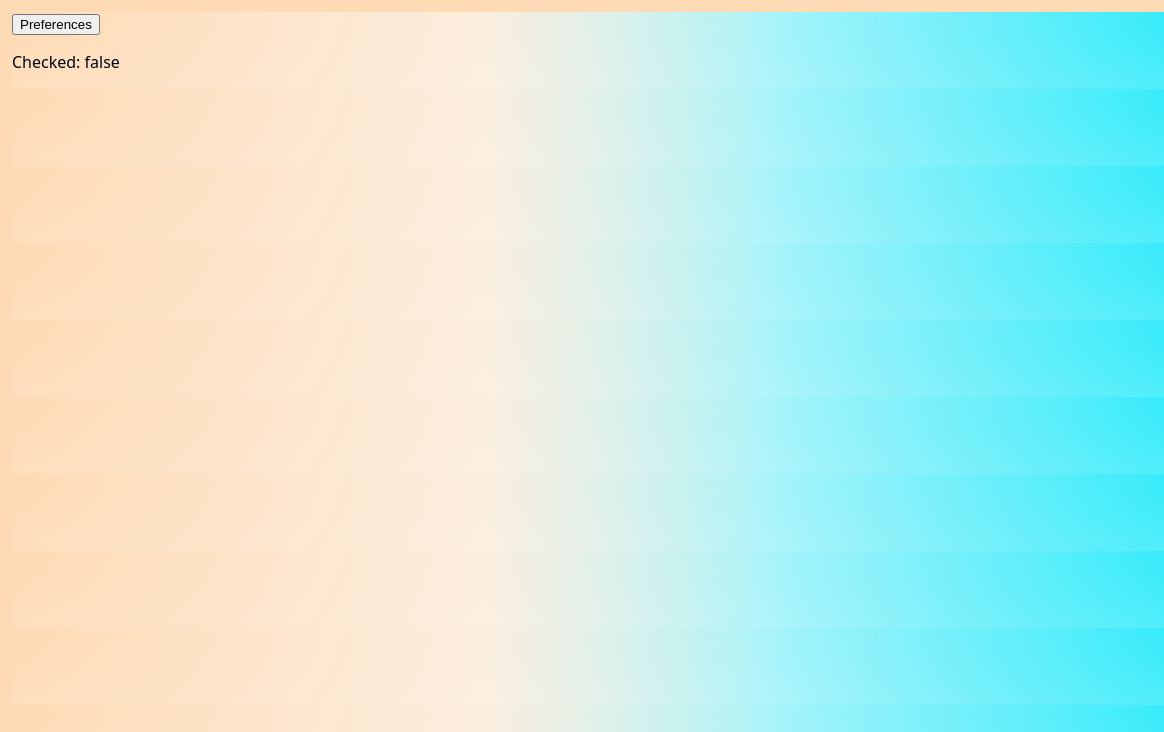
DropdownMenu › updates checkbox item state in menu
Expected: the text "Checked: false" is shown, [12,51,120,73]
Step 1. Click the button "Preferences" → [56, 24], box [12,14,100,35]
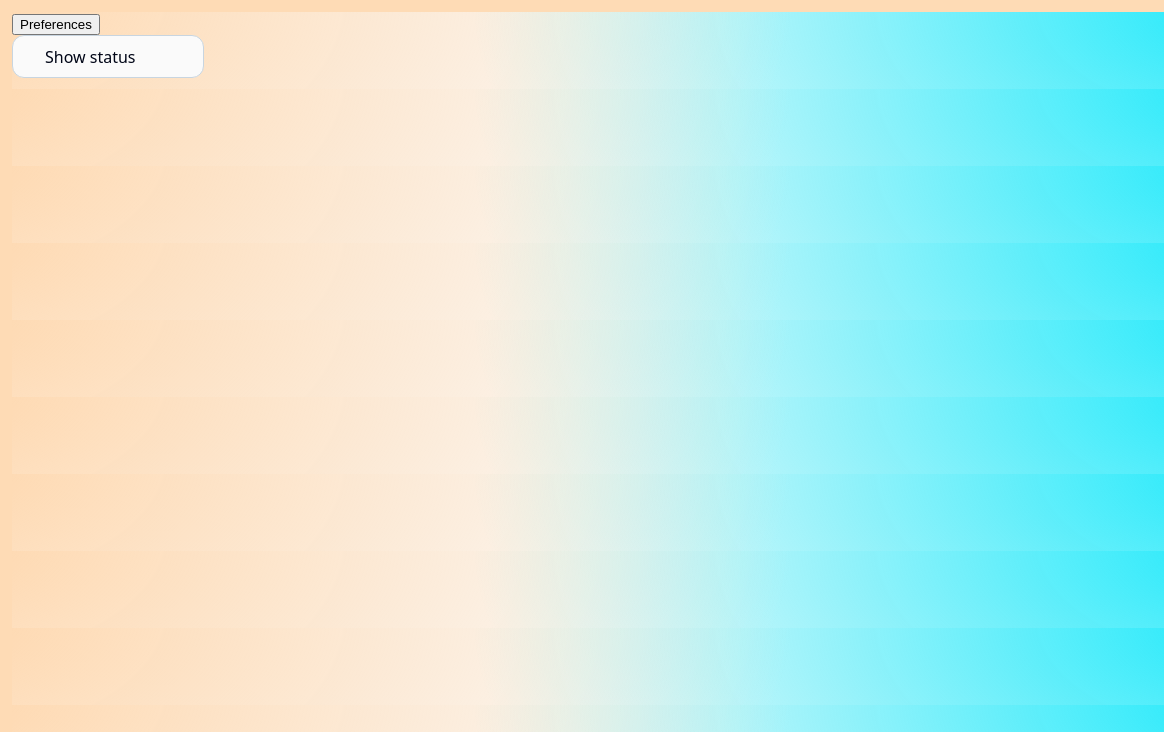
Step 2. Click the menu item "Show status" → [90, 57], box [45,46,136,68]
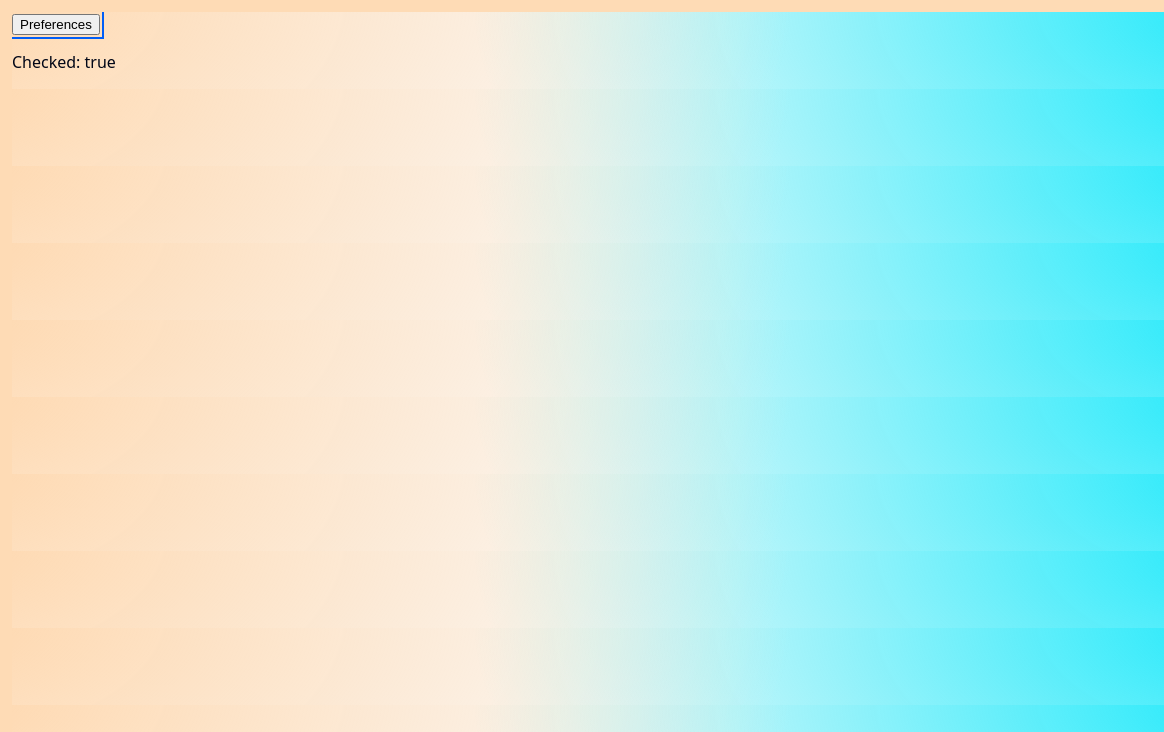
Expected: the text "Checked: true" is shown, [12,51,116,73]
